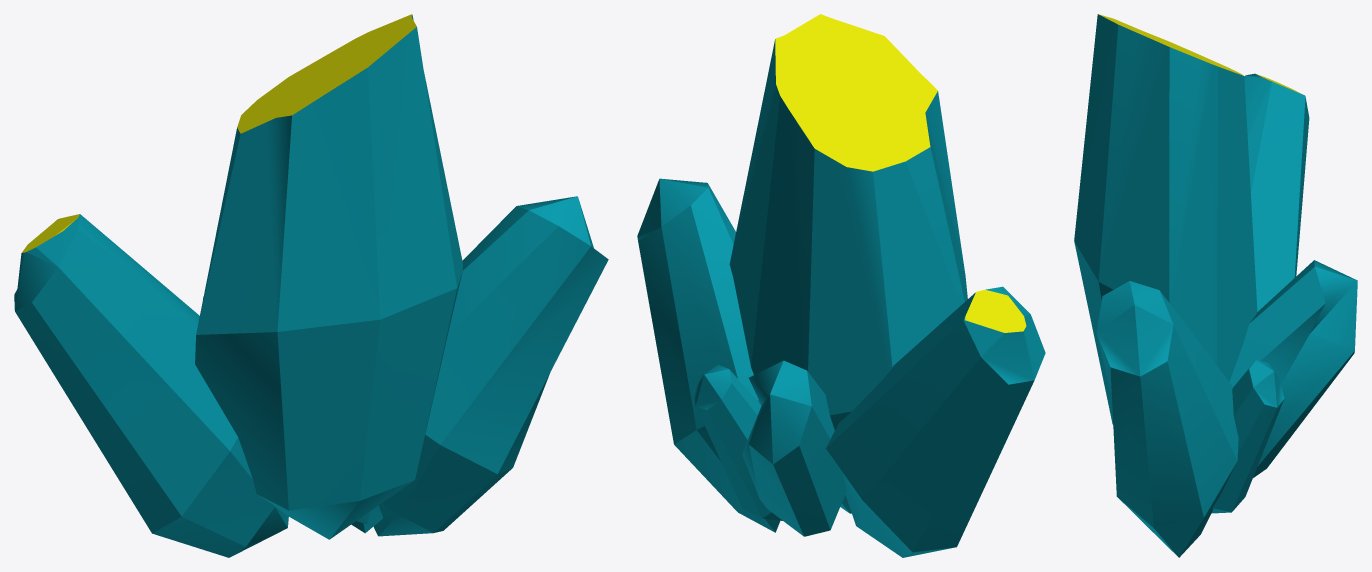
3 views of the same model, side by side, from view 1: azimuth 30°, elevation 25°; view 2: azimuth 150°, elevation 25°; view 3: azimuth 270°, elevation 25° (orthographic). The views are drawn at different scales.
Visible parts, largest first — view 1: polySurface7; view 2: polySurface7; view 3: polySurface7.
Boxes of the visible parts, box(x1,y1,x2,y2) form: polySurface7: box(14, 14, 608, 557); polySurface7: box(637, 14, 1045, 557); polySurface7: box(1074, 14, 1357, 557).
Bounding box in the file's own units: 1.75 × 1.78 × 0.8998.
